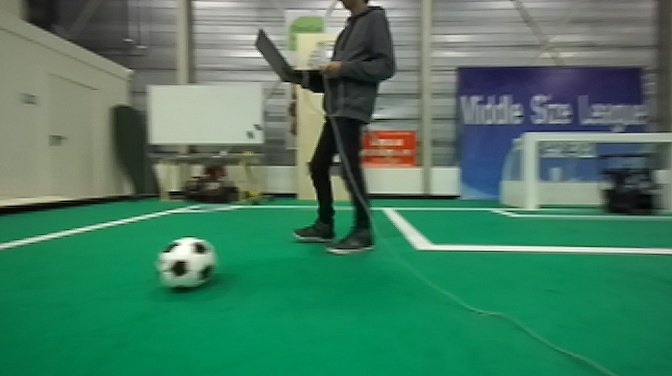ball: (150, 235, 220, 295)
goal: (524, 131, 672, 215)
goalpost: (522, 131, 539, 215)
human: (289, 1, 400, 260)
laptop: (246, 22, 330, 87)
robot: (595, 151, 665, 219)
